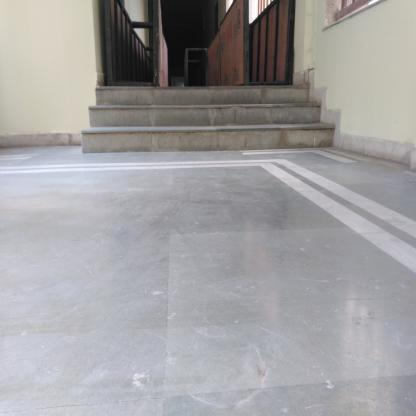stairs: (102, 83, 305, 159)
